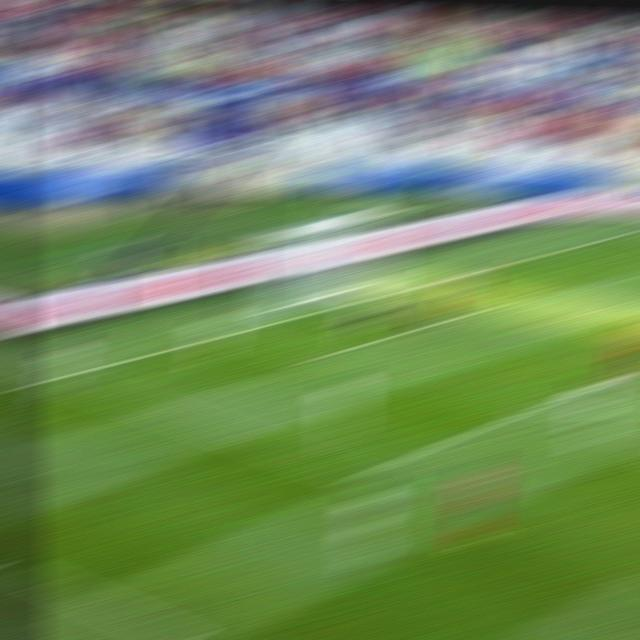bigarea_bottom_inner: (336, 463, 381, 487)
bigarea_top_outter: (523, 248, 563, 262)
bottom_arc_area_intersection: (521, 396, 564, 416)
smallarea_bottom_inner: (295, 347, 333, 367)
smallarea_bottom_outter: (211, 326, 250, 341)
smallarea_top_inner: (494, 291, 541, 308)
